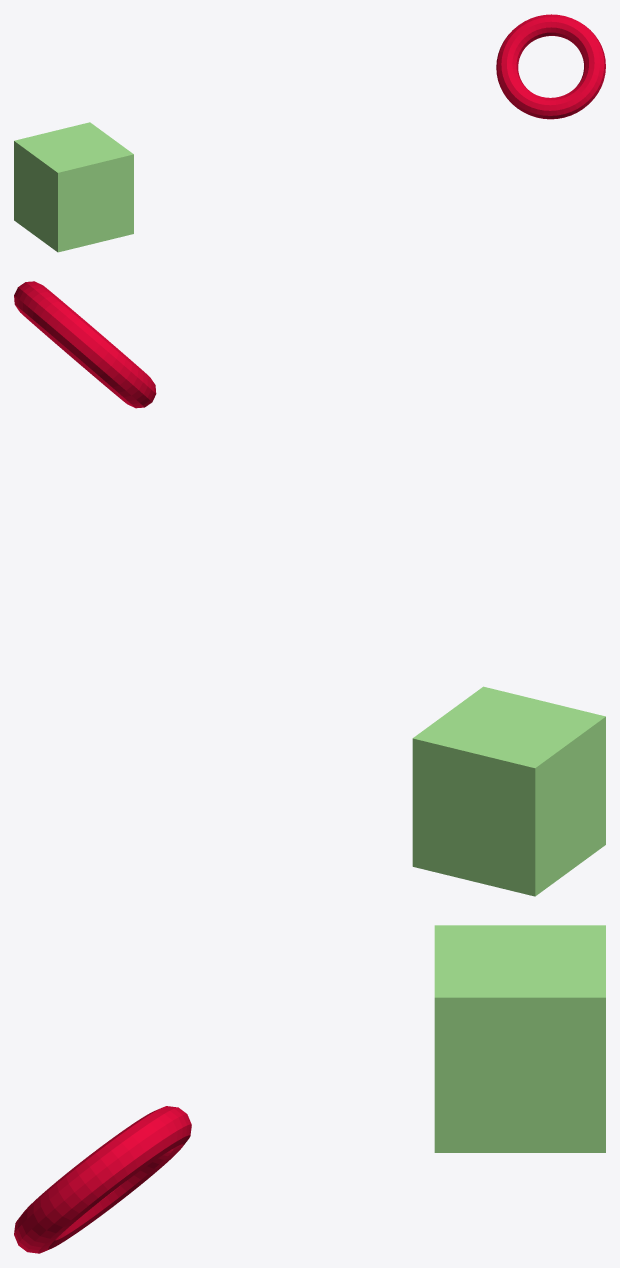
The model's file is animationTest.glb.
The picture shows the model from 3 angles, top to bottom: view 1: azimuth 30°, elevation 25°; view 2: azimuth 150°, elevation 25°; view 3: azimuth 270°, elevation 25°; orthographic projection. The views are drawn at different scales.
Visible parts, largest first — view 1: GreenCube, Torus; view 2: GreenCube, Torus; view 3: GreenCube, Torus.
Boxes of the visible parts, left/top/right/bottom form: GreenCube: left=14, top=122, right=133, bottom=252; Torus: left=496, top=14, right=605, bottom=119; GreenCube: left=412, top=686, right=605, bottom=896; Torus: left=14, top=281, right=156, bottom=408; GreenCube: left=434, top=925, right=605, bottom=1152; Torus: left=14, top=1106, right=191, bottom=1253.
Size of the model in its own units: 11.9 by 4.7 by 6.91.
